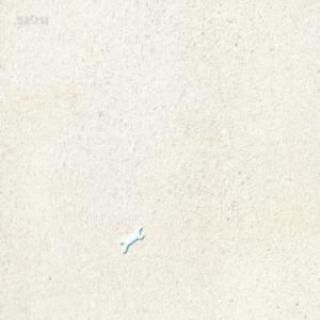Wrenchtrack_idkeyframe: (120, 227, 142, 254)
